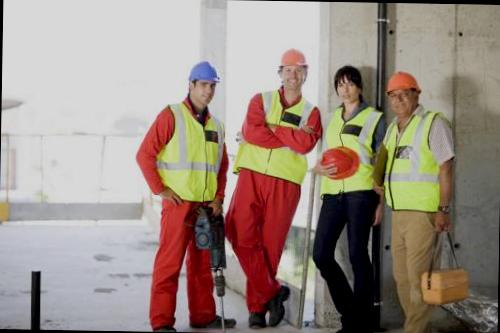no_helmet: (332, 62, 369, 107)
